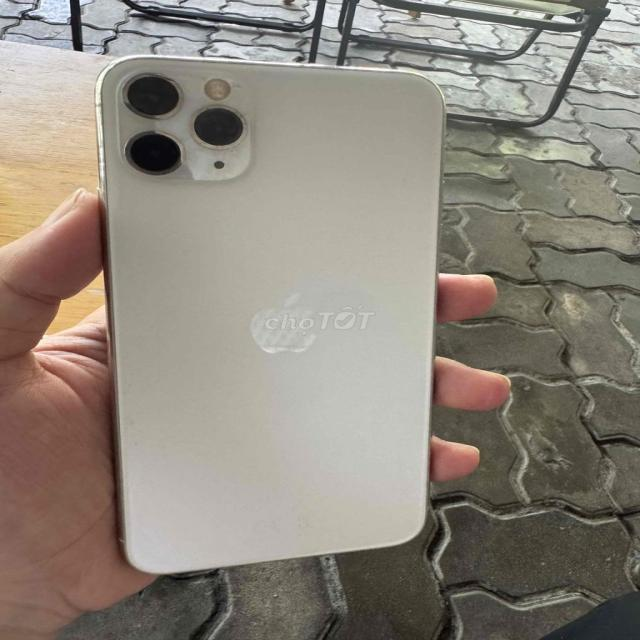gen_11: (75, 47, 450, 567)
